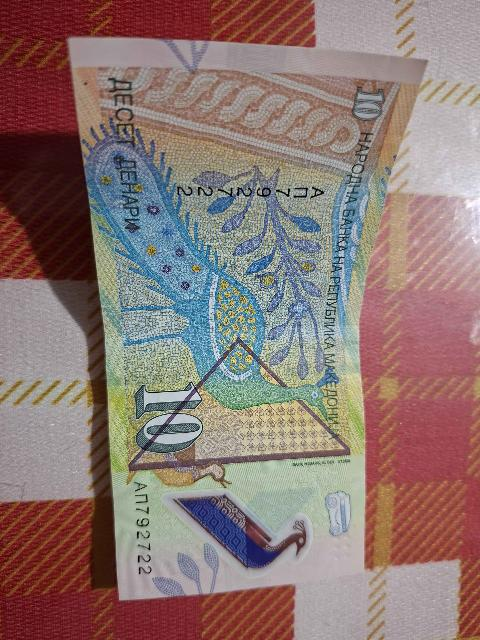10_note: (70, 39, 424, 599)
